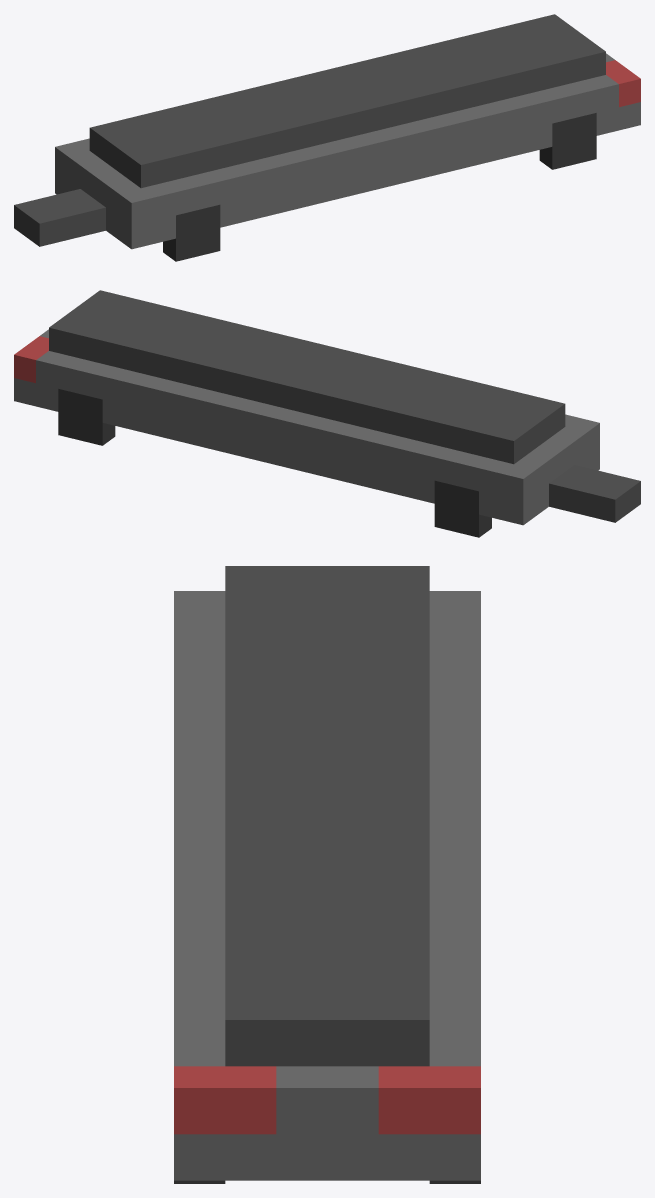
Rendered from truck-trailer-v2-grey.gltf.
The picture shows the model from 3 angles, top to bottom: view 1: azimuth 30°, elevation 25°; view 2: azimuth 150°, elevation 25°; view 3: azimuth 270°, elevation 25°; orthographic projection. The views are drawn at different scales.
Visible parts, largest first — view 1: model, wheels; view 2: model, wheels; view 3: model.
Boxes of the visible parts, bbox=[...] form: model: bbox=[14, 14, 640, 249]; wheels: bbox=[163, 113, 596, 261]; model: bbox=[14, 290, 640, 525]; wheels: bbox=[58, 389, 491, 537]; model: bbox=[174, 566, 480, 1180].
Size of the model in its own units: 2.6 by 0.4 by 0.6.
Materials: 2 (2 with a texture image).
